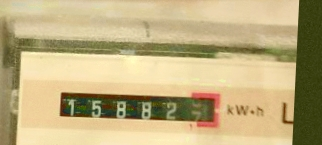1: (66, 96, 75, 115)
2: (164, 99, 177, 120)
5: (88, 97, 102, 117)
7: (188, 107, 201, 120)
8: (138, 98, 152, 119), (114, 98, 127, 118)
screen: (53, 83, 224, 131)
